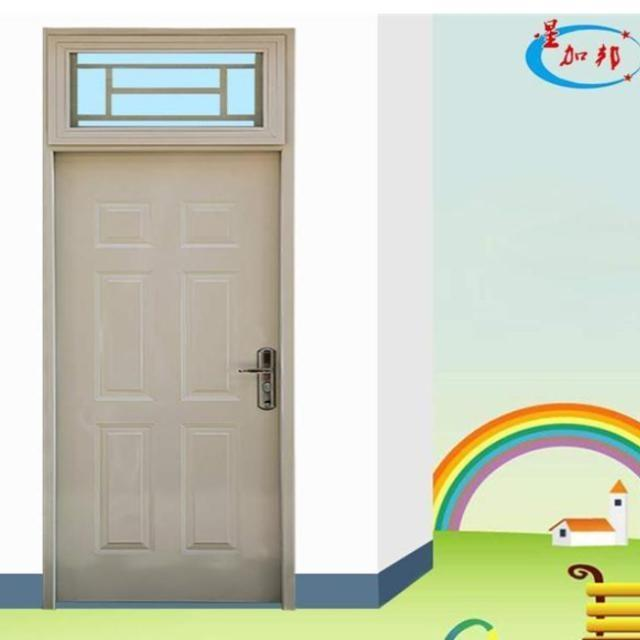door: (44, 140, 298, 608)
